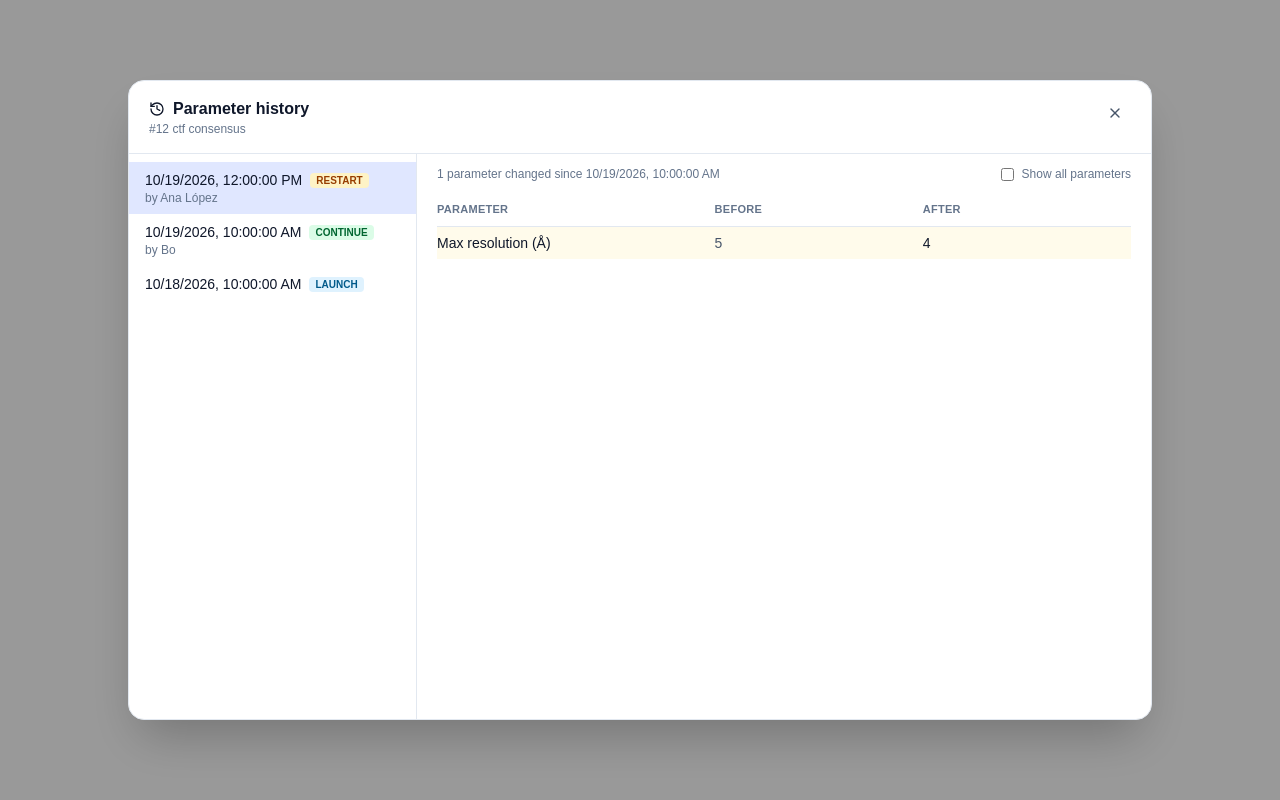
ParameterHistoryDialog › shows every parameter of the first launch kept
This screenshot has width=1280, height=800.
Click the button "10/18/2026, 10:00:00 AM launch" at [272, 284], box 129,266 -> 416,302
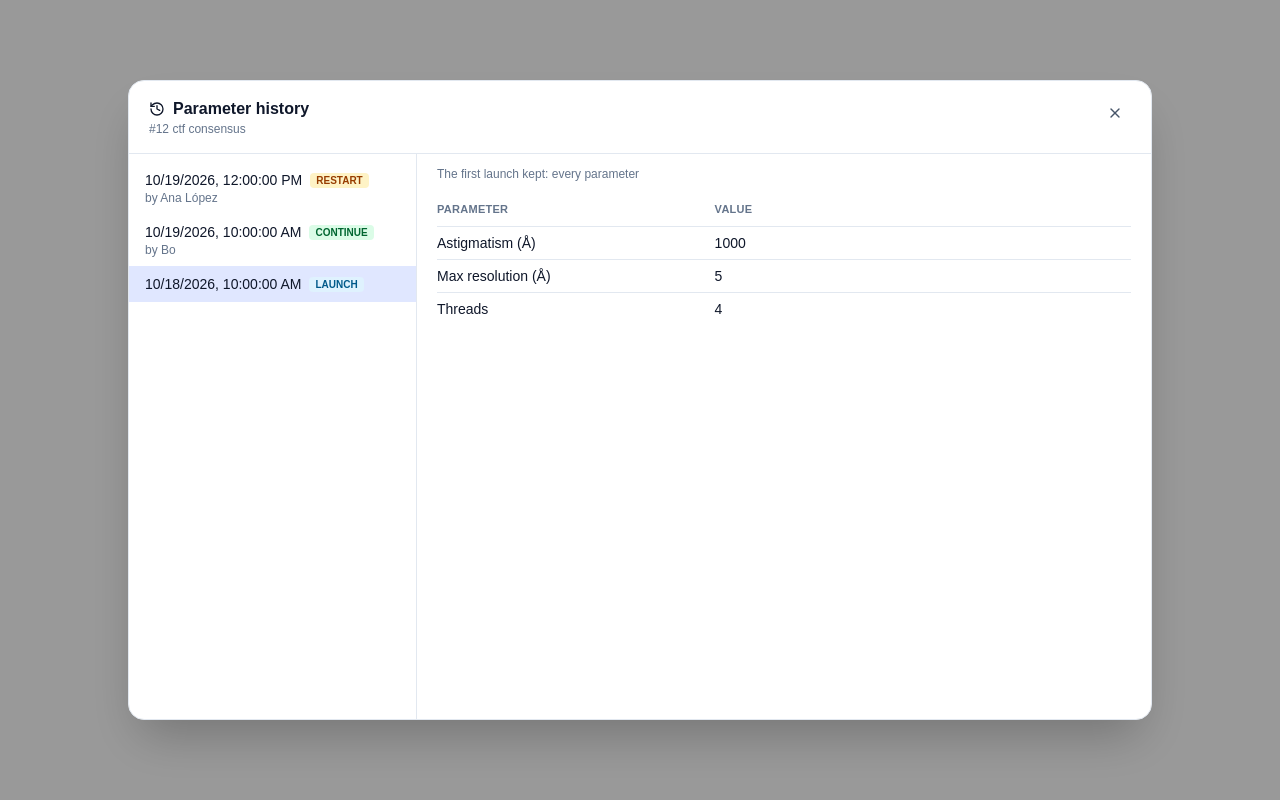
expect the text "The first launch kept: every parameter" is shown: met, box 437,166 -> 639,182
expect the text "Threads" is shown: met, box 437,301 -> 488,317
expect the text "Astigmatism (Å)" is shown: met, box 437,235 -> 536,251
